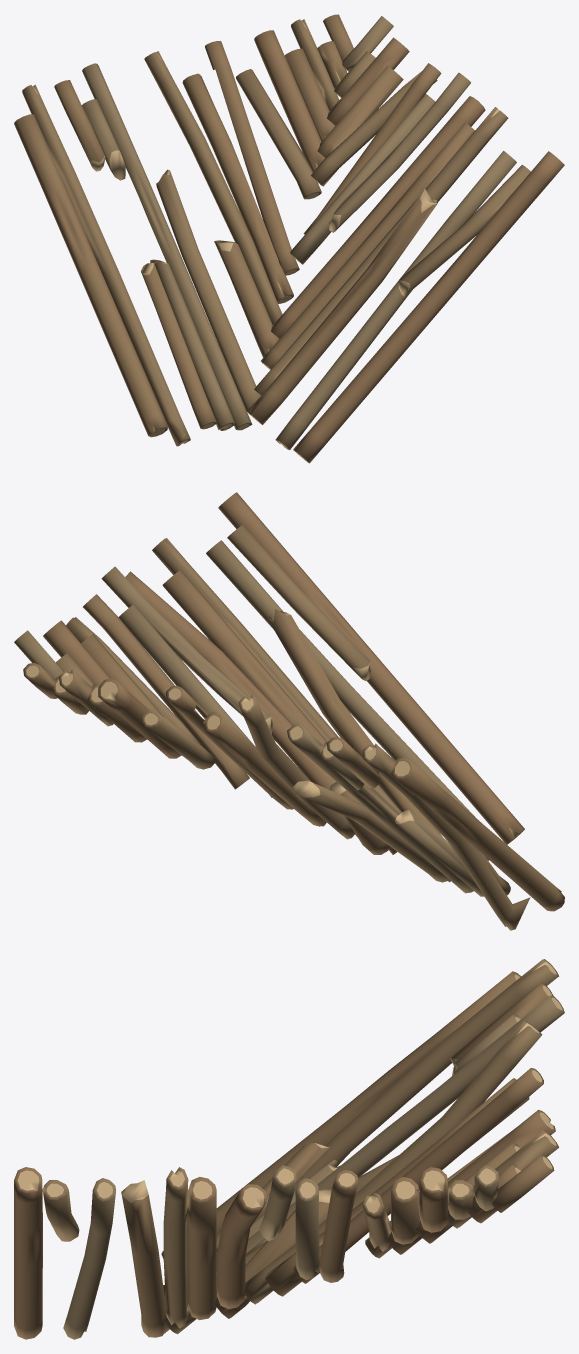
The model's file is rpgpp_av_roof_01_9x4x3_corner_01.gltf.
3 renders of one model, top to bottom at view 1: azimuth 30°, elevation 25°; view 2: azimuth 150°, elevation 25°; view 3: azimuth 270°, elevation 25°, orthographic. The views are drawn at different scales.
Parts seen in each view (by area): view 1: rpgpp_av_roof_01_9x4x3_corner_01; view 2: rpgpp_av_roof_01_9x4x3_corner_01; view 3: rpgpp_av_roof_01_9x4x3_corner_01.
Boxes of the visible parts, x1,y1,x2,y2 form: rpgpp_av_roof_01_9x4x3_corner_01: [14, 14, 564, 463]; rpgpp_av_roof_01_9x4x3_corner_01: [14, 492, 564, 930]; rpgpp_av_roof_01_9x4x3_corner_01: [14, 959, 564, 1339].
Bounding box in the file's own units: 0.0816 × 0.0591 × 0.0815.
Materials: 1 (1 with a texture image).
